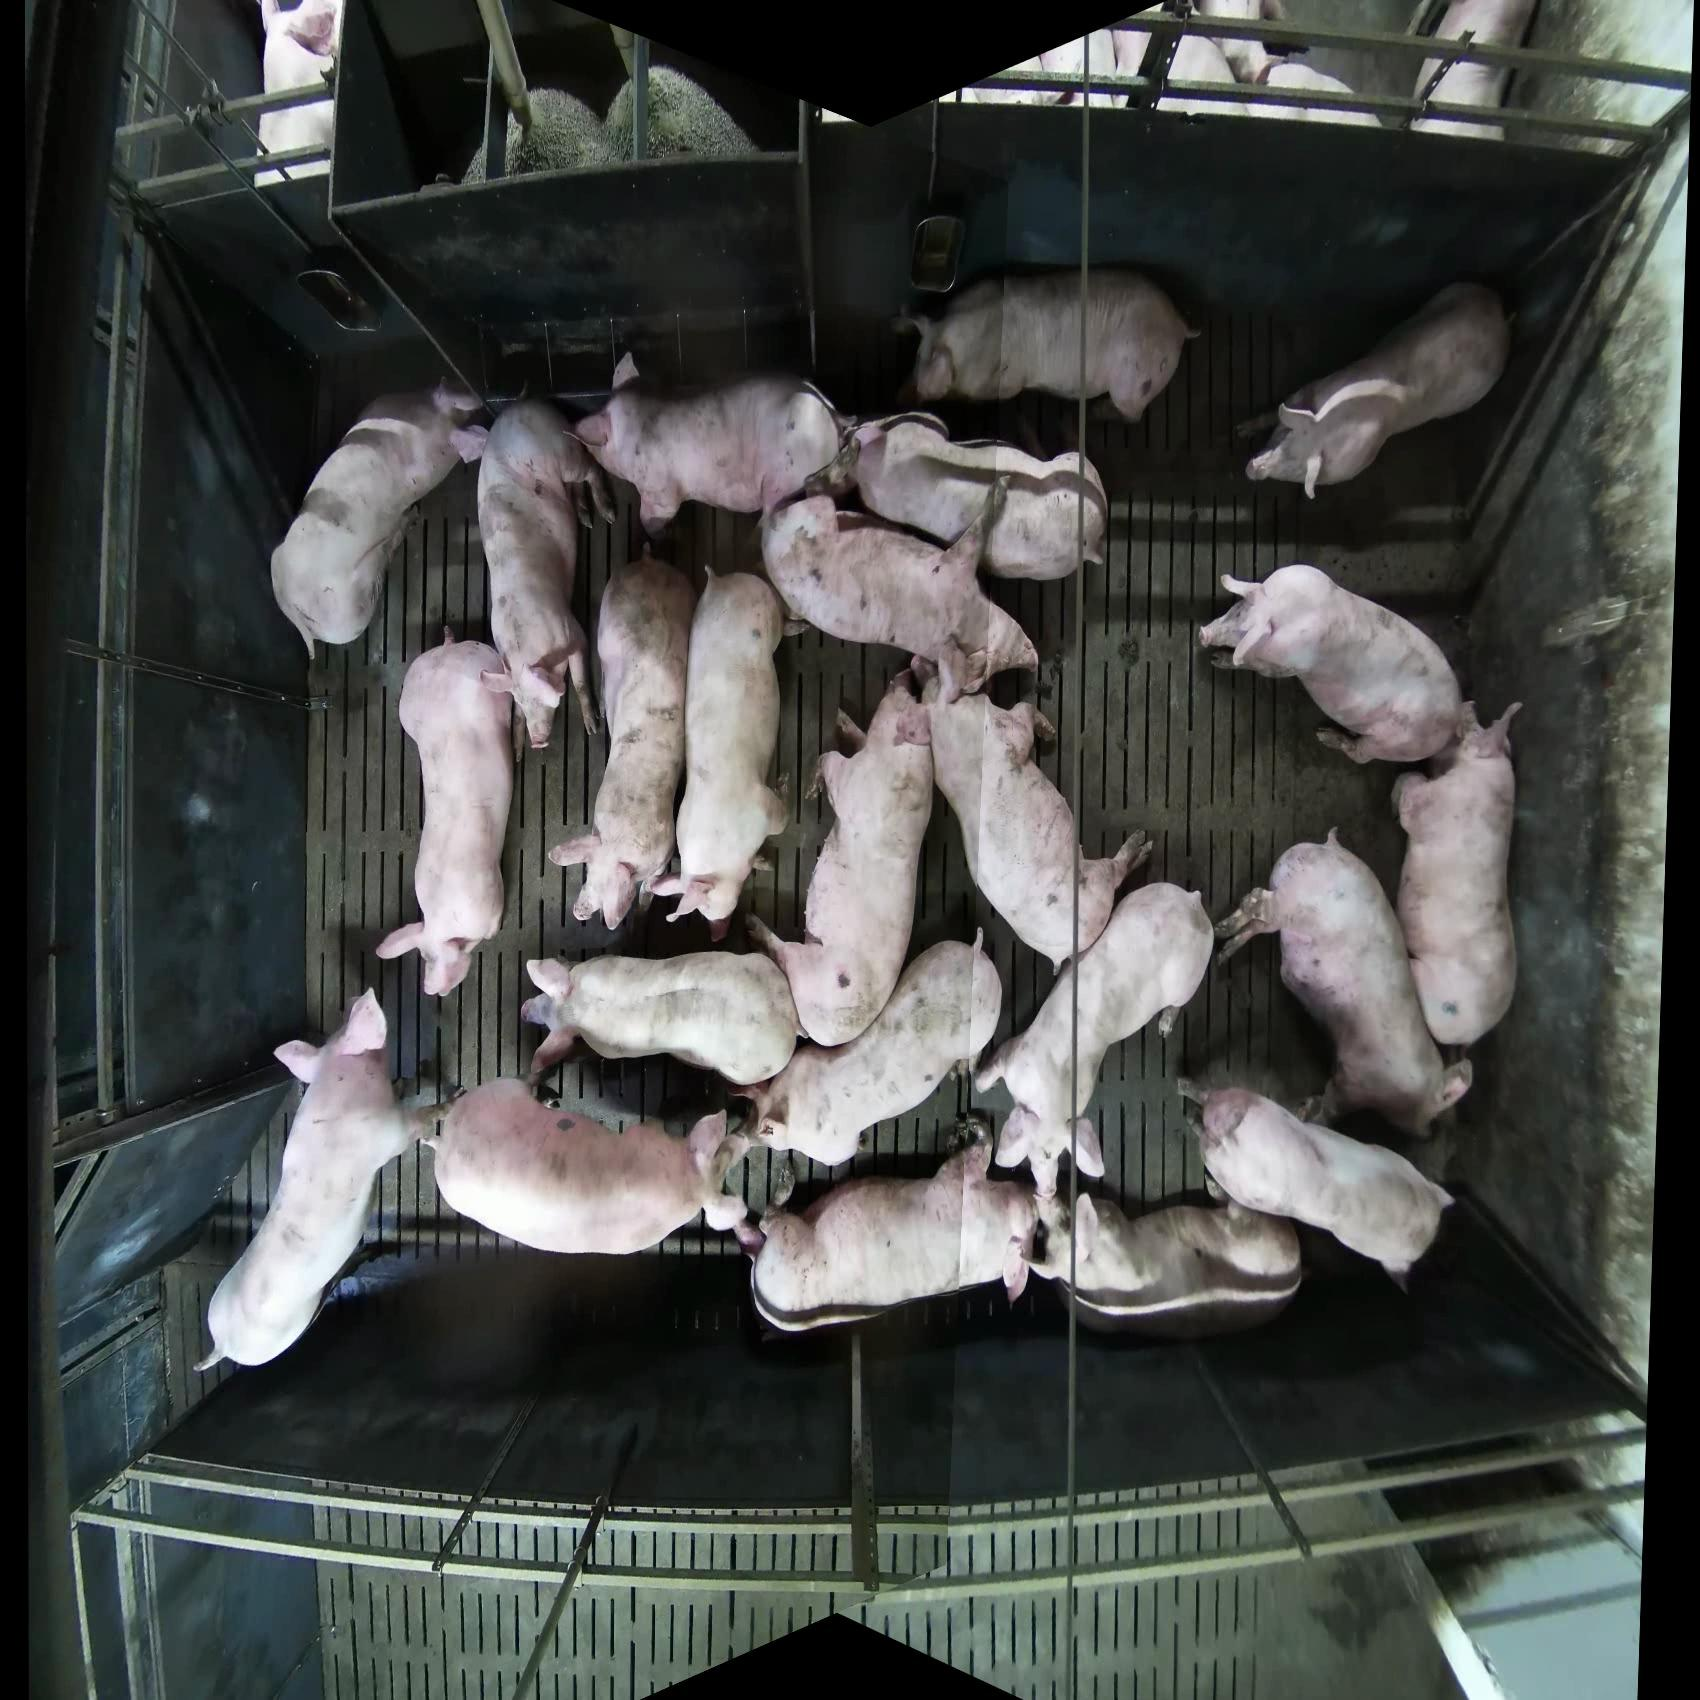pig: (193, 985, 462, 1373), (1214, 827, 1474, 1140), (971, 880, 1216, 1203), (918, 641, 1154, 970), (744, 660, 939, 1049), (725, 926, 1003, 1168), (747, 1118, 1046, 1336), (268, 380, 487, 662), (760, 487, 1043, 702), (1177, 1079, 1459, 1294), (1244, 280, 1512, 501), (427, 1077, 757, 1256), (546, 553, 696, 931), (1197, 564, 1473, 767), (375, 634, 528, 999), (648, 567, 794, 934), (475, 397, 616, 752), (573, 355, 852, 534), (894, 266, 1203, 425), (1392, 697, 1526, 1048), (844, 411, 1108, 582), (1027, 1189, 1305, 1340), (520, 950, 800, 1090), (1038, 23, 1245, 117), (1415, 2, 1541, 140), (255, 2, 342, 187), (604, 64, 761, 163), (503, 89, 618, 176), (1245, 58, 1384, 128), (1192, 2, 1287, 87)
